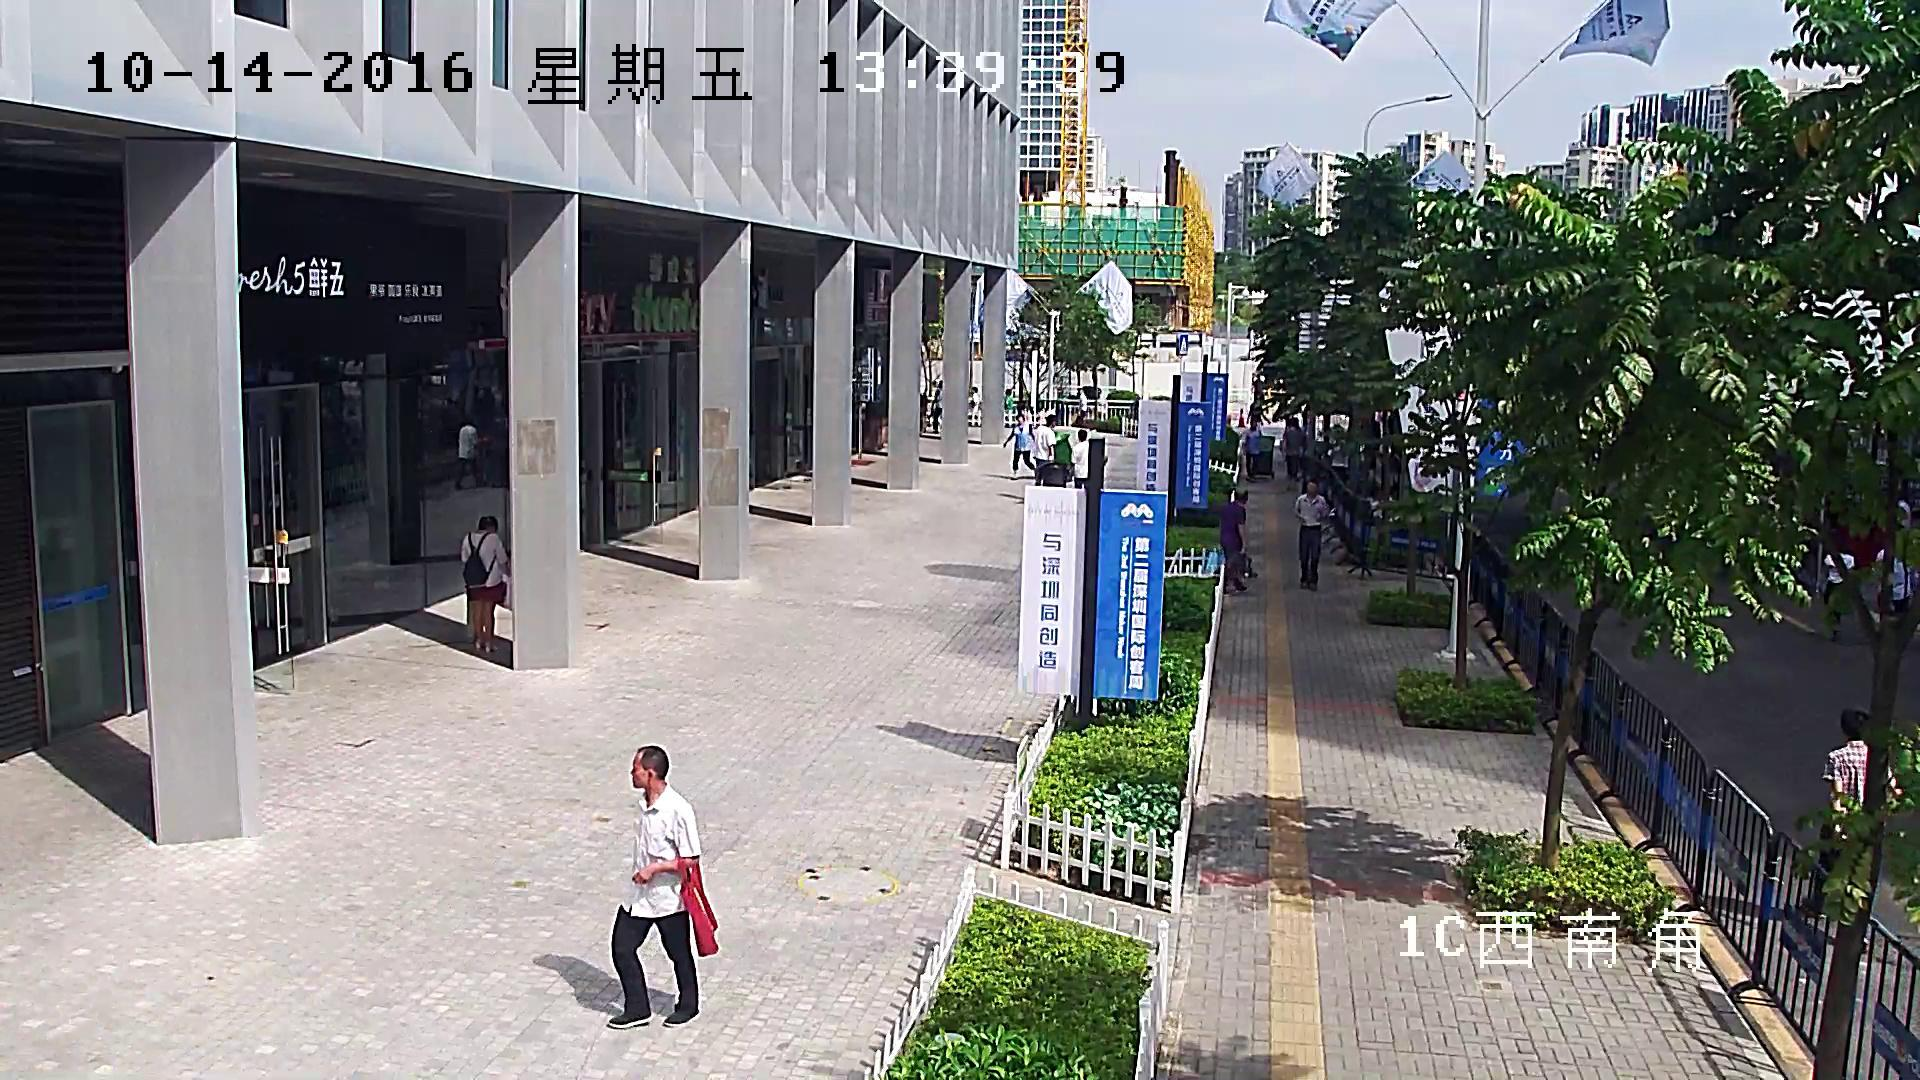person: (606, 743, 720, 1030), (1821, 708, 1904, 829), (459, 513, 511, 653), (1219, 486, 1260, 596), (1002, 412, 1070, 480), (1295, 479, 1328, 591), (1821, 538, 1855, 643), (453, 415, 488, 490), (1002, 414, 1035, 480), (1244, 418, 1276, 483), (1032, 414, 1056, 486), (1280, 419, 1306, 478), (1069, 429, 1089, 488), (1245, 420, 1260, 481)
